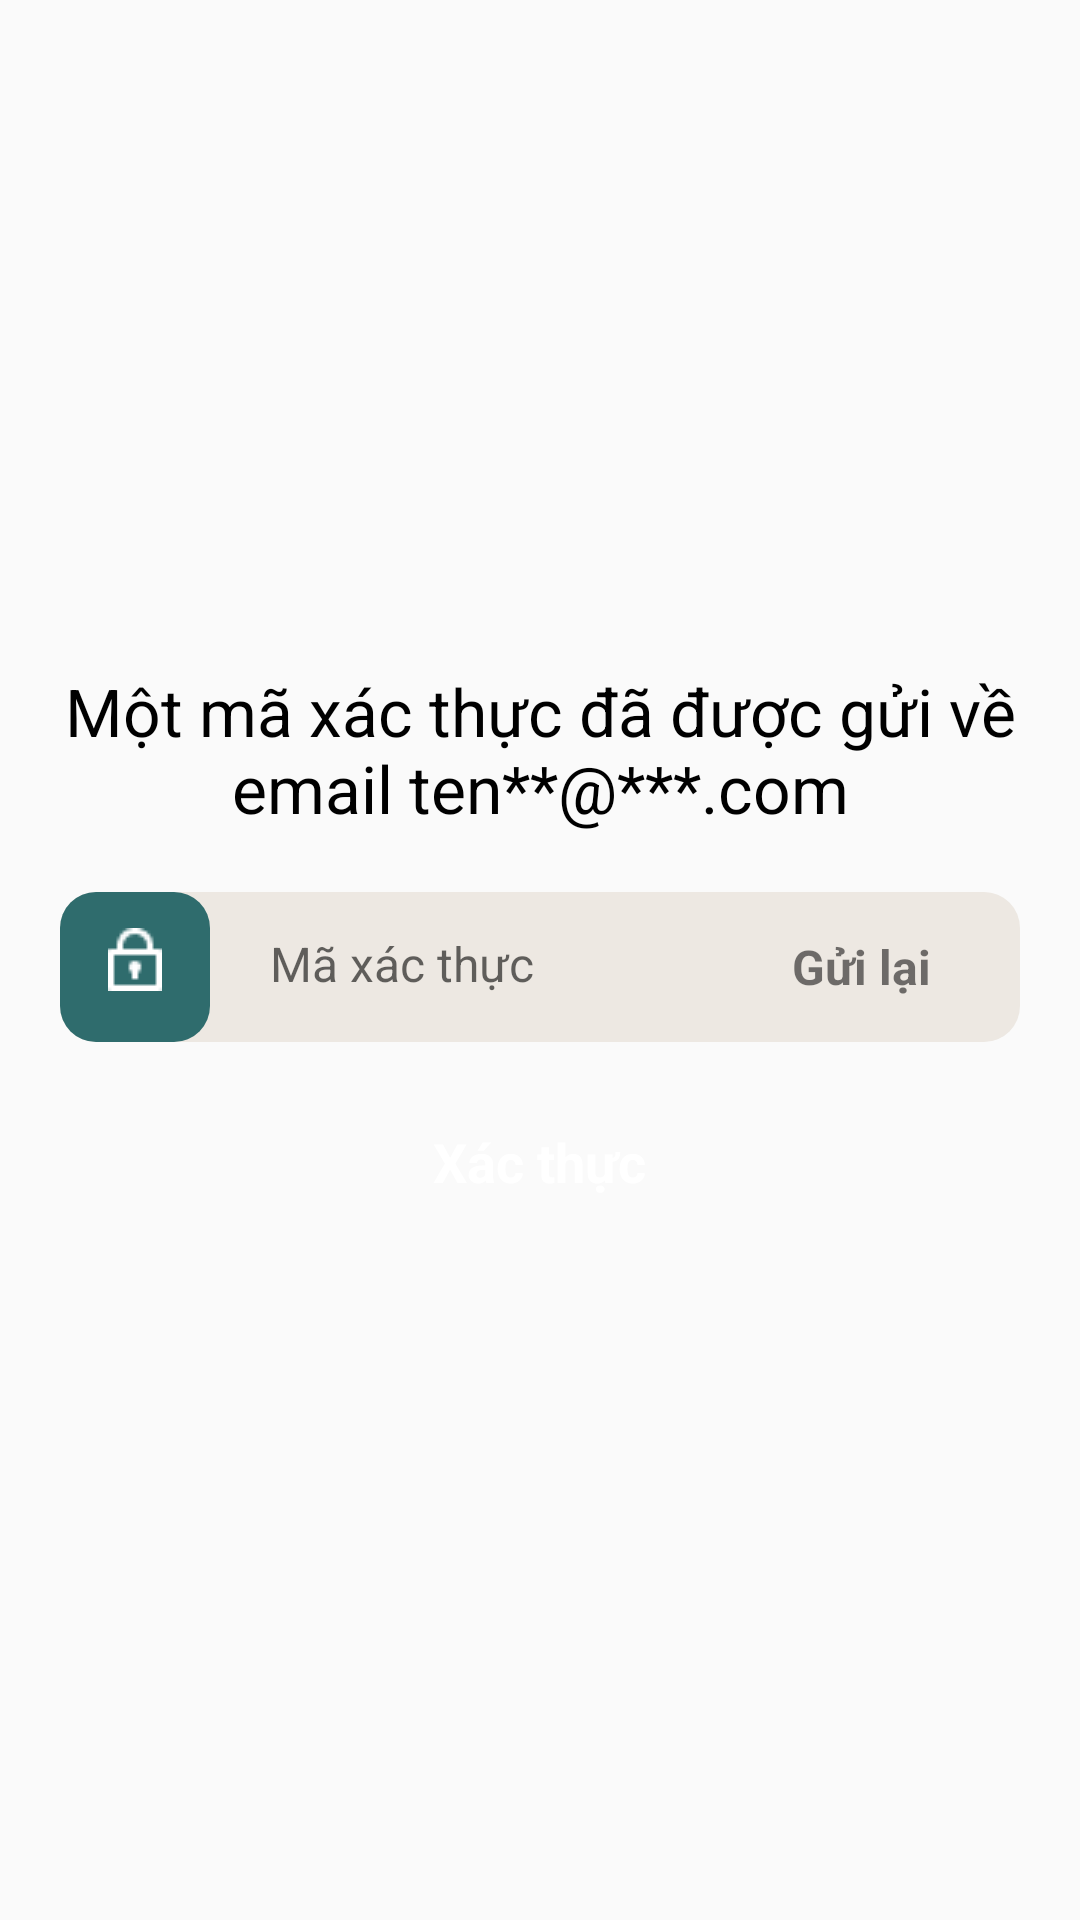

Where icons sit on this 1080 x 1920 app screen, as bbox(x1, y1, x2, y2):
lock: bbox(108, 928, 162, 991)
